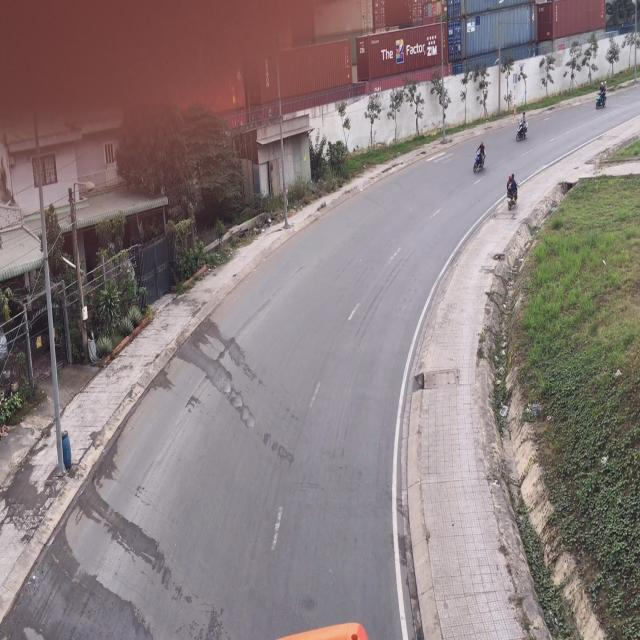motorbike: (471, 140, 487, 175), (506, 172, 520, 212), (515, 112, 530, 144), (594, 81, 608, 111)
